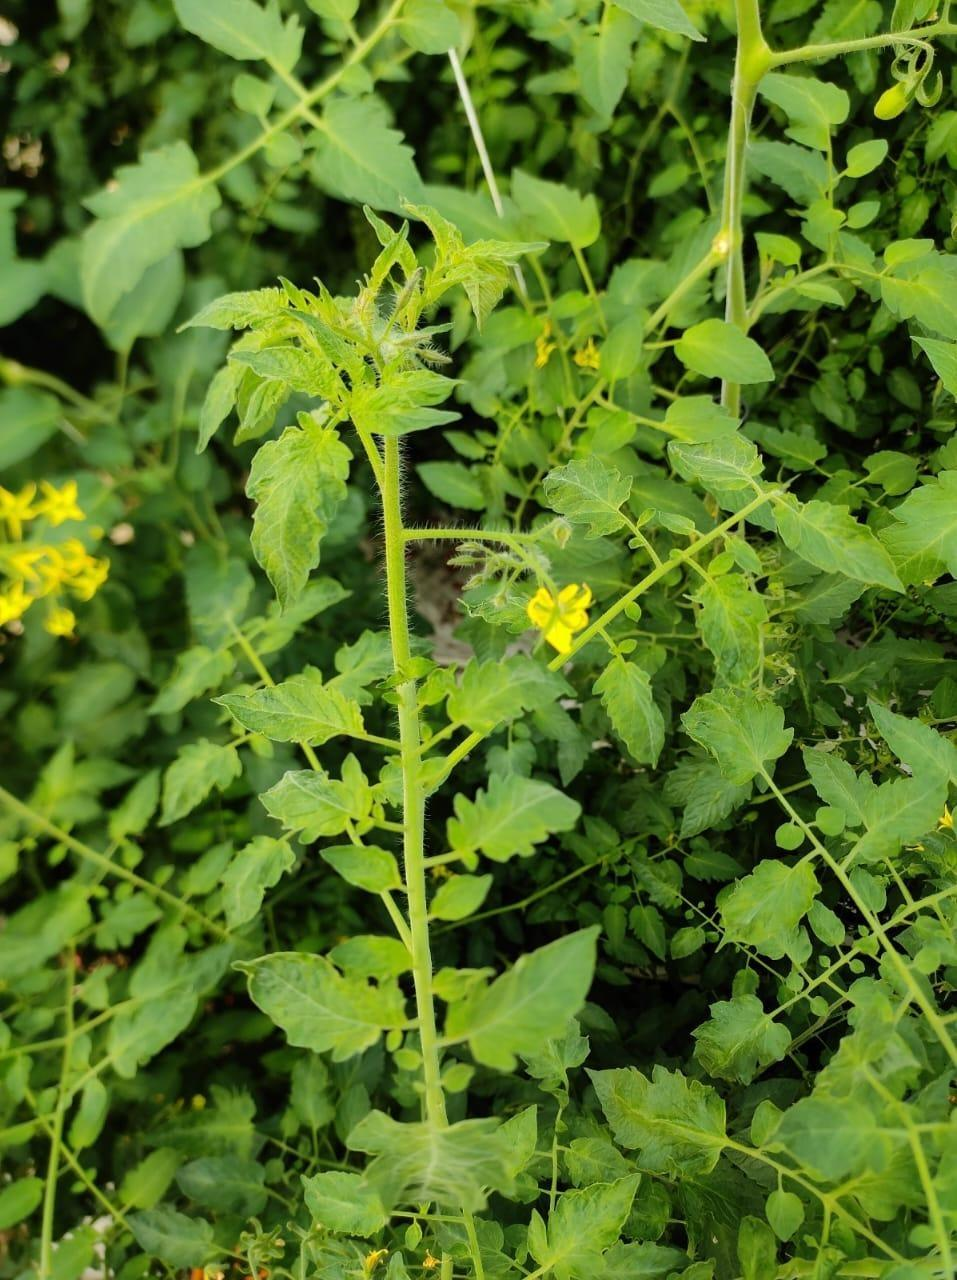Flor rugoso: (526, 583, 591, 655)
Hoja: (592, 1067, 729, 1177), (218, 676, 388, 745), (682, 686, 792, 783), (529, 1175, 638, 1269), (718, 859, 819, 957), (594, 656, 665, 766), (860, 772, 946, 858), (321, 839, 418, 895)
Hoja rugoso: (247, 412, 353, 601), (243, 952, 407, 1061), (353, 1117, 526, 1213), (774, 497, 903, 590), (260, 754, 390, 835), (693, 994, 790, 1084), (697, 572, 768, 688), (869, 701, 956, 786), (669, 431, 761, 510), (543, 458, 632, 535), (879, 250, 956, 339), (222, 837, 295, 929), (674, 319, 773, 384), (363, 371, 455, 437), (230, 346, 335, 397), (181, 288, 288, 328), (405, 205, 465, 268), (665, 395, 738, 442), (464, 269, 514, 330), (472, 296, 480, 319)
Pedunculo: (712, 0, 956, 327), (362, 435, 446, 1129)
